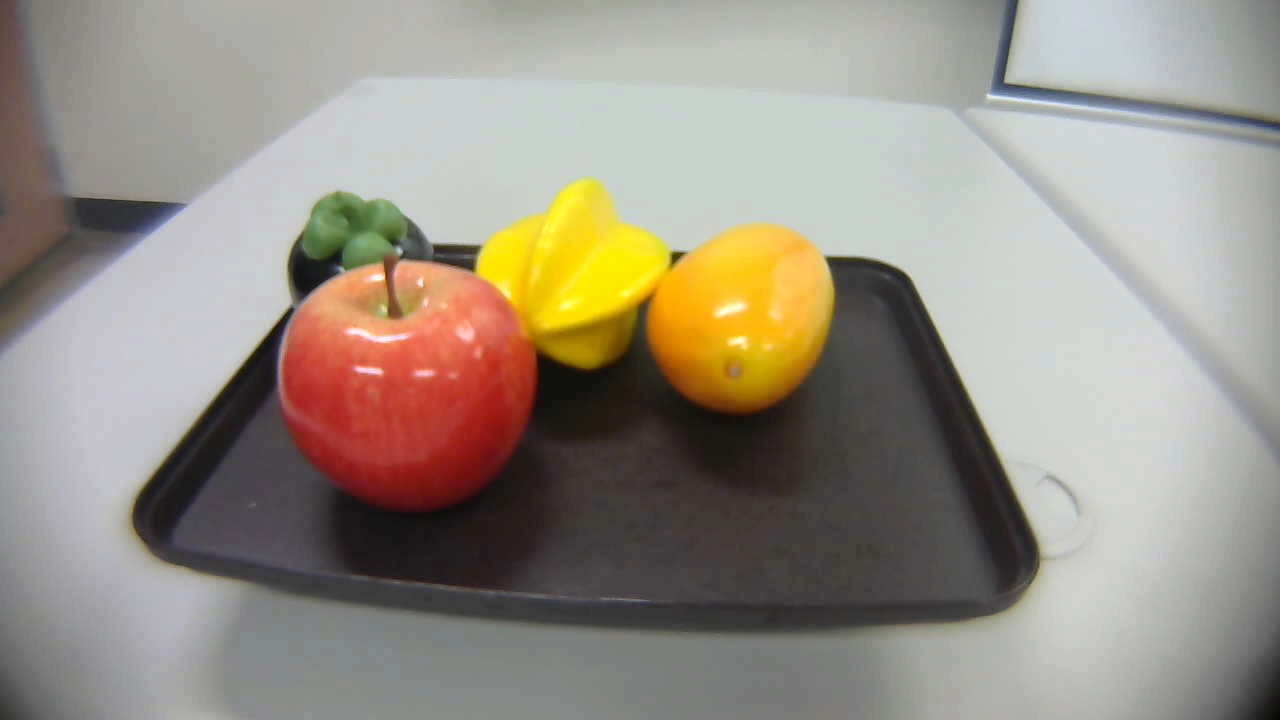mangosteen: (283, 189, 435, 323)
red apple: (278, 253, 547, 528)
star fruit: (460, 171, 682, 406)
yellow mango: (647, 219, 843, 411)
